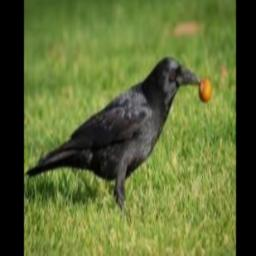Crow: (25, 55, 201, 211)
